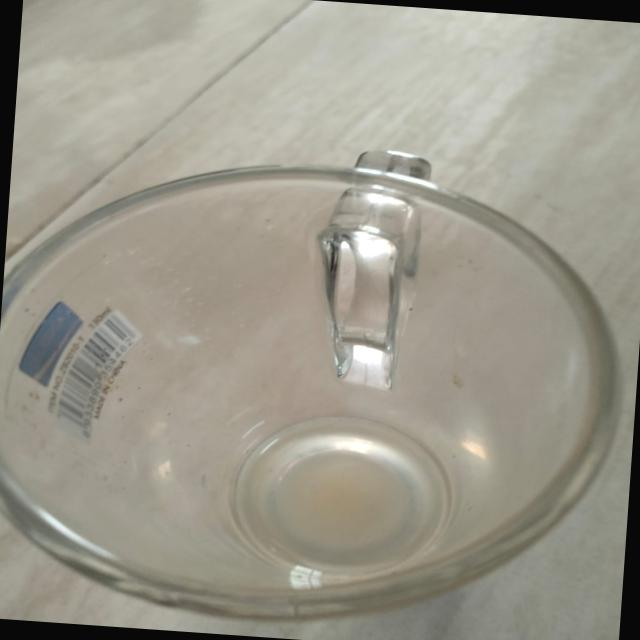glass-VX4N: (0, 122, 635, 640)
